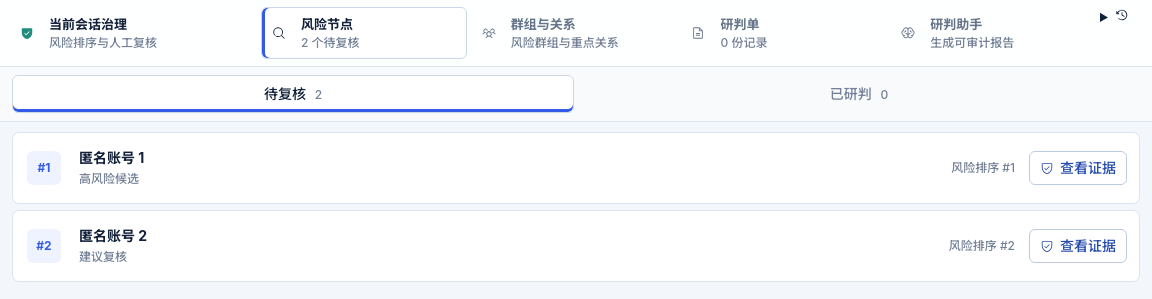
Test: product governance workspace › presents risk groups, factual relations, and potential clues with governance-specific evidence
The width and height of the screenshot is (1152, 299).
Expected: the text "匿名账号 1" is shown, x1=79 y1=149 x2=144 y2=166
Expected: the text "匿名账号 2" is shown, x1=79 y1=227 x2=147 y2=244
Click the button "群组与关系 风险群组与重点关系": (574, 33) x1=471 y1=7 x2=676 y2=59
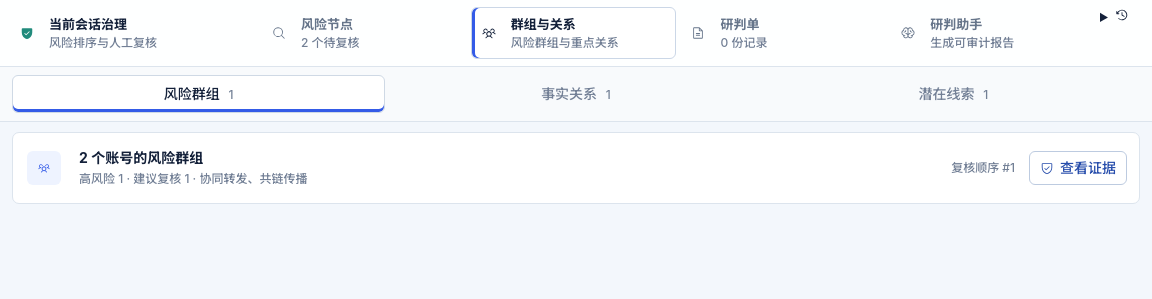
Expected: the text "高风险 1 · 建议复核 1 · 协同转发、共链传播" is shown, x1=79 y1=171 x2=307 y2=186
Click the tab "事实关系 1": (576, 94) x1=389 y1=75 x2=763 y2=113
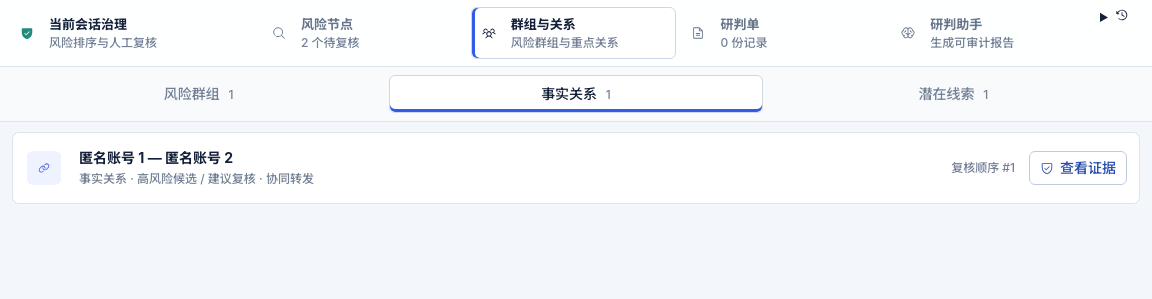
Expected: the text "事实关系 · 高风险候选 / 建议复核 · 协同转发" is shown, x1=79 y1=171 x2=314 y2=186
Click the tab "潜在线索 1": (953, 94) x1=767 y1=75 x2=1140 y2=113
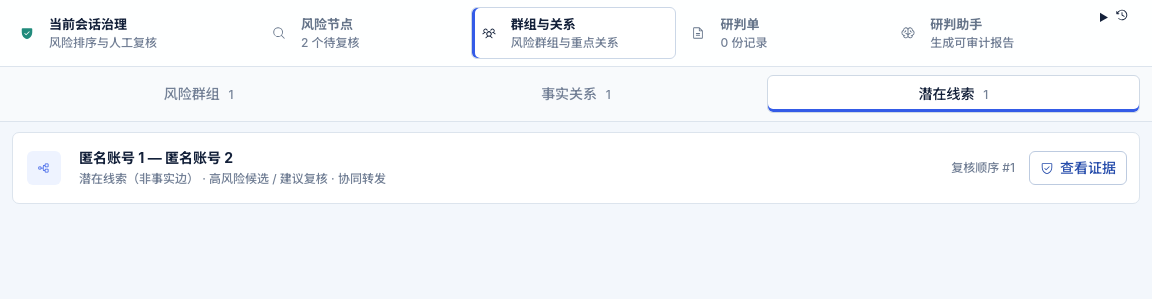
Expected: the text "潜在线索（非事实边） · 高风险候选 / 建议复核 · 协同转发" is shown, x1=79 y1=171 x2=386 y2=186
